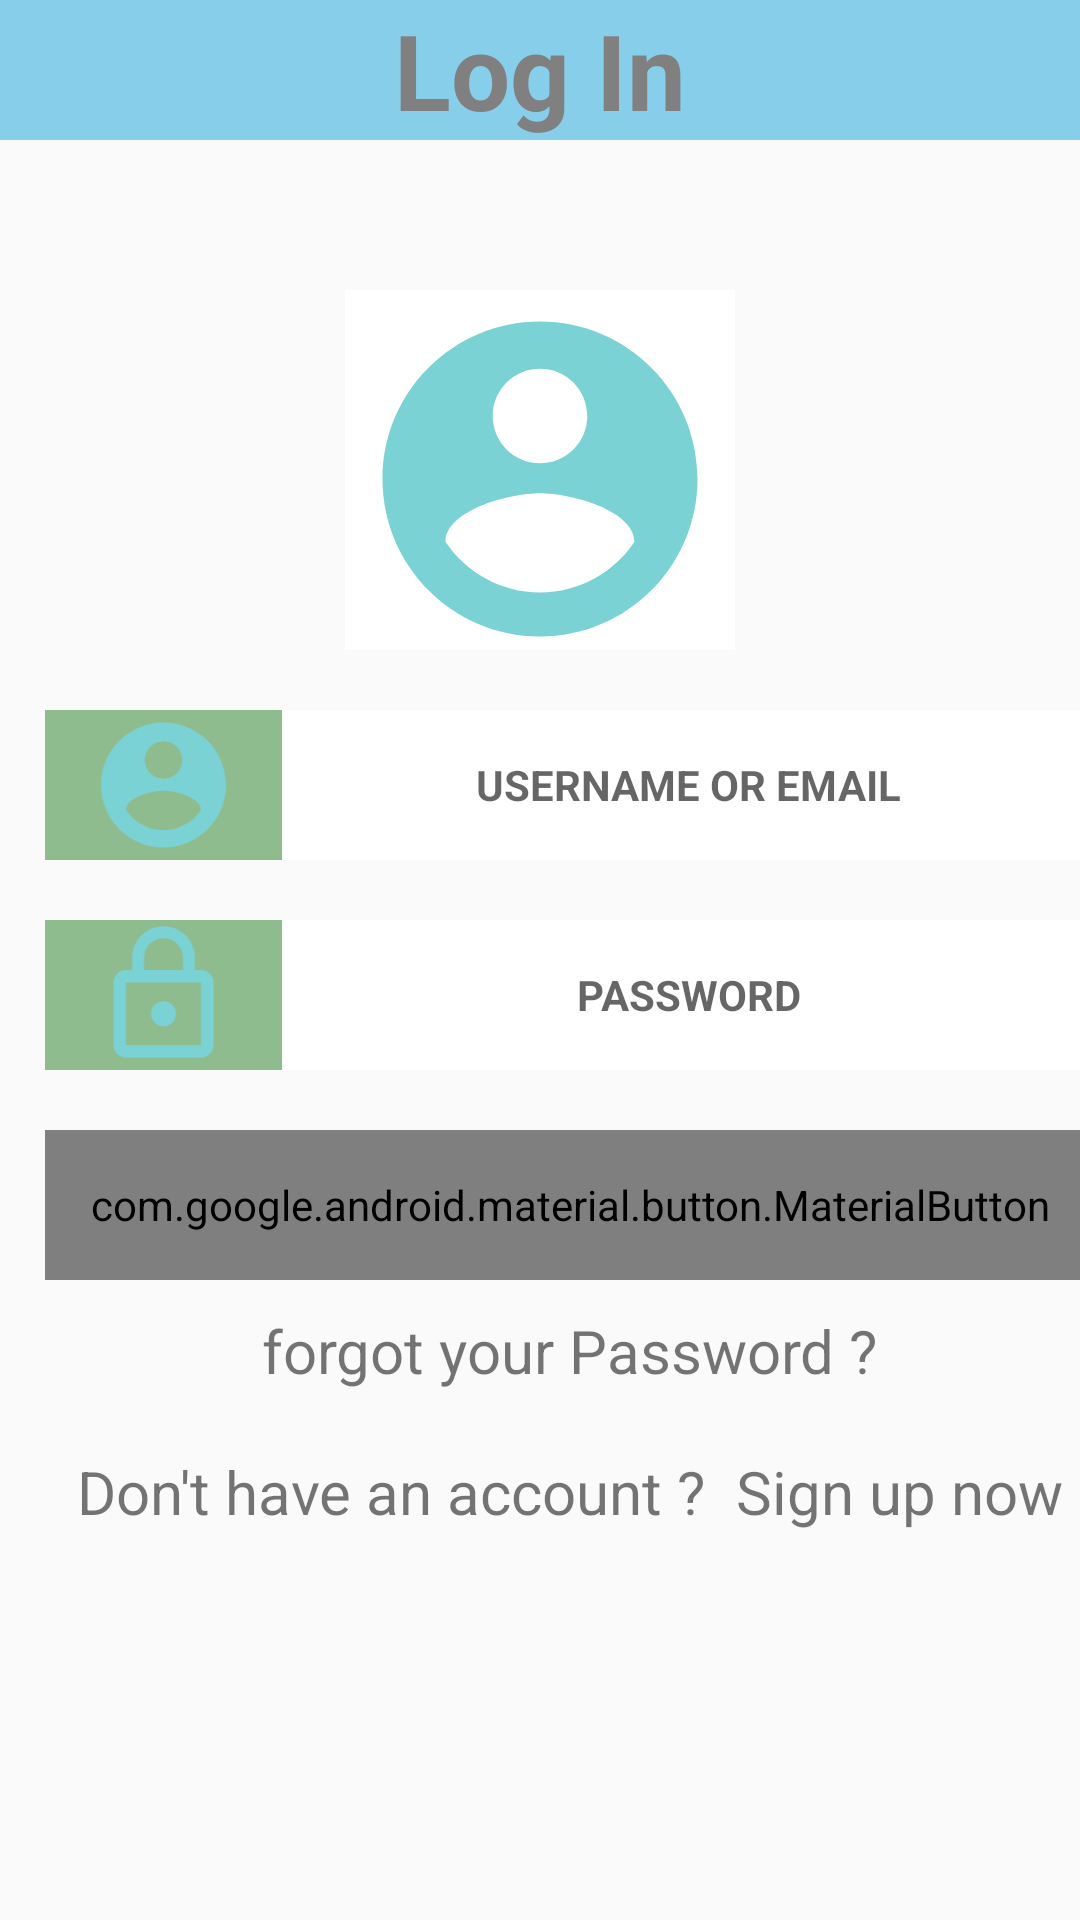

Point at icon controls on the screen. Image size 1080px x 1920px, points as point (x, y).
lock: point (163, 995)
